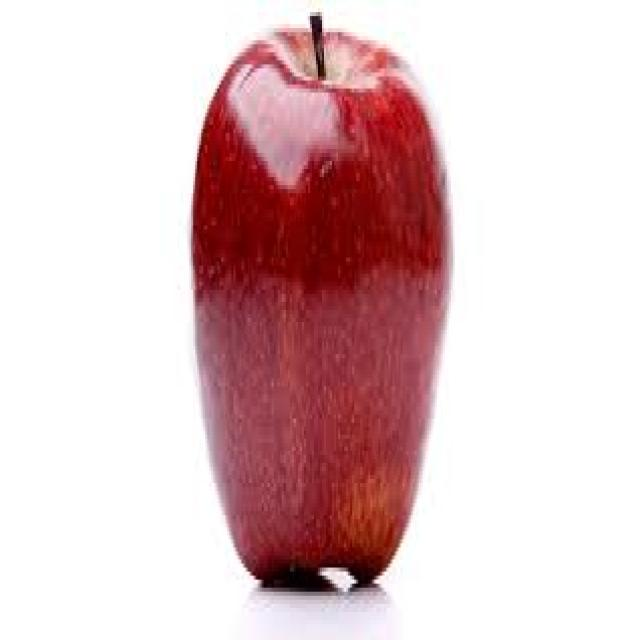non_orange: (138, 0, 612, 640)
